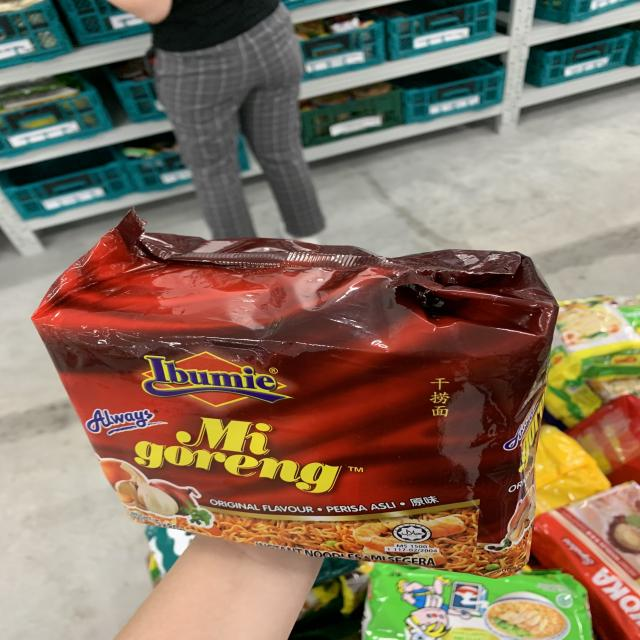object_name: (58, 244, 526, 565)
